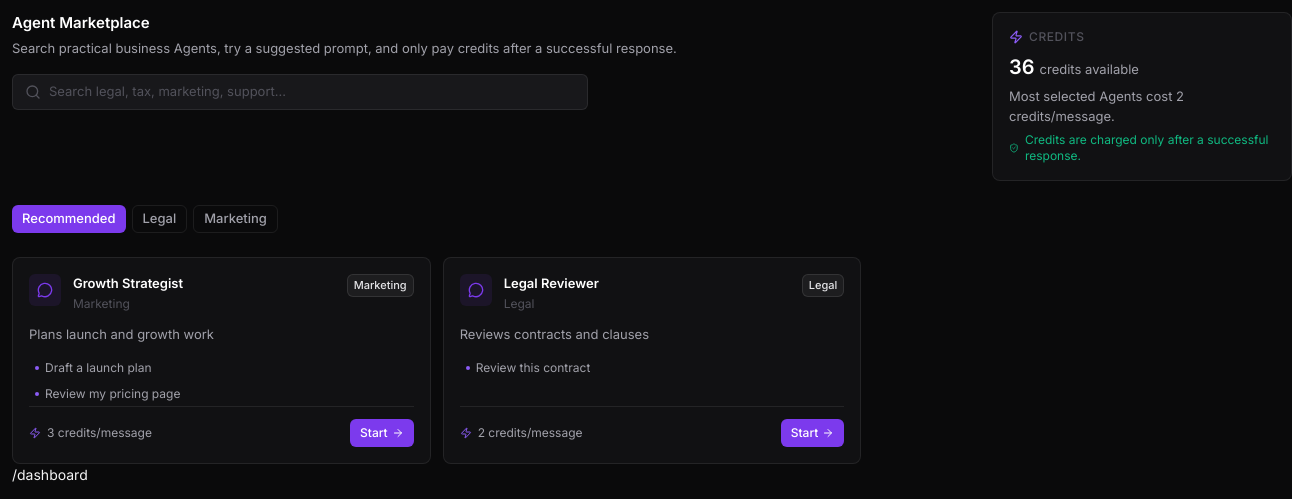
Test case: DashboardPage › filters agents by search text and category chip
The image size is (1292, 499).
Expected: the heading "Growth Strategist" is shown, [73,274,183,294]
Expected: the heading "Legal Reviewer" is shown, [504,274,599,294]
Type "legal" into the search field named "Search Agents" at (312, 92), box [49,82,575,102]
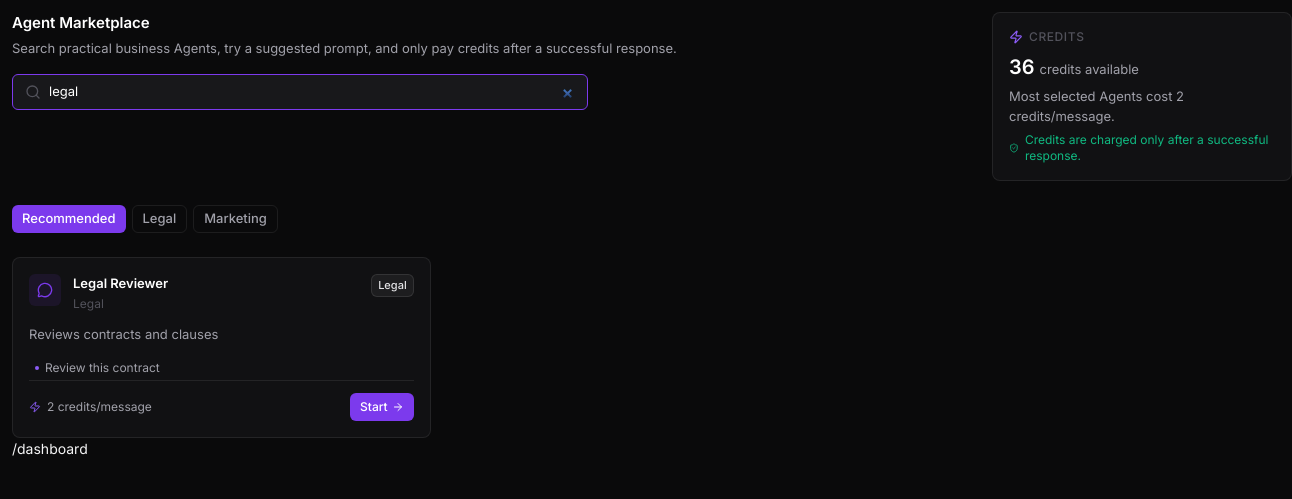
Expected: the heading "Legal Reviewer" is shown, [73,274,168,294]
Expected: the heading "Growth Strategist" is gone
Clear the search field named "Search Agents" at (312, 92), box [49,82,575,102]
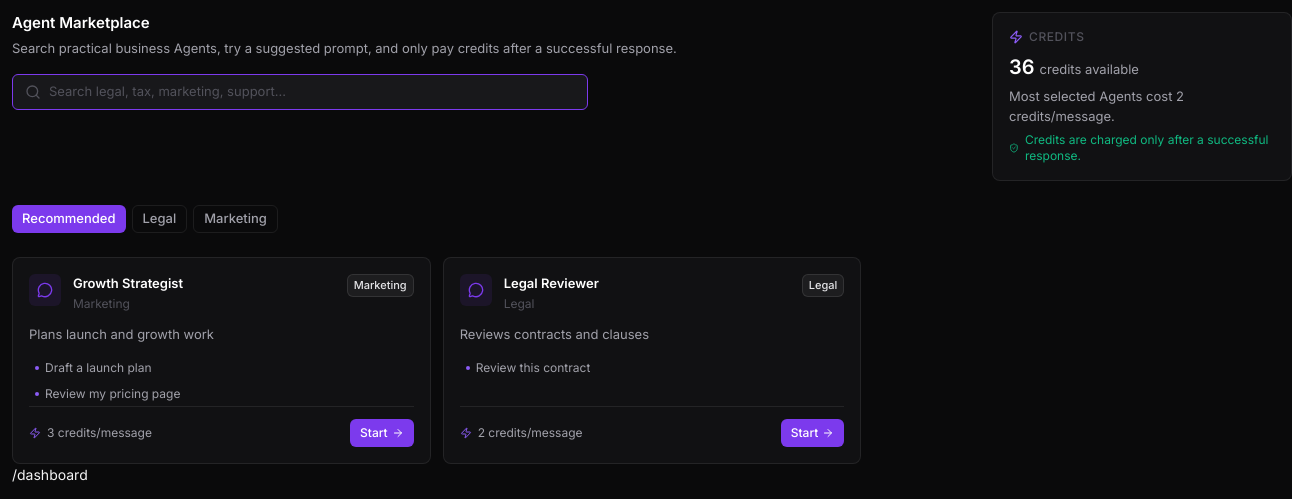
Click the button "Marketing" at (236, 219), box [193,205,278,233]
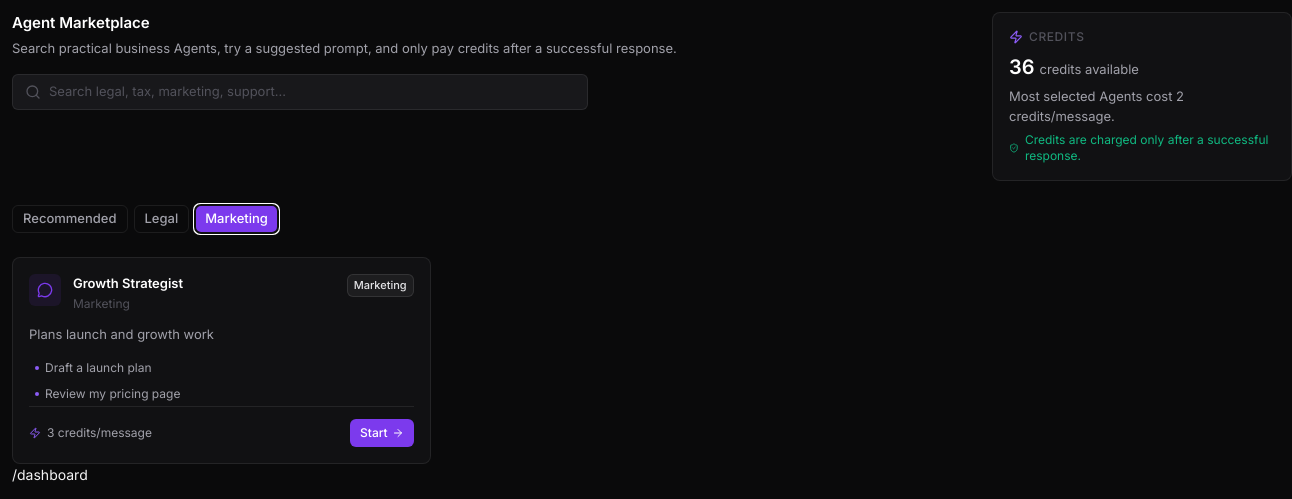
Expected: the heading "Growth Strategist" is shown, [73,274,183,294]
Expected: the heading "Legal Reviewer" is gone
